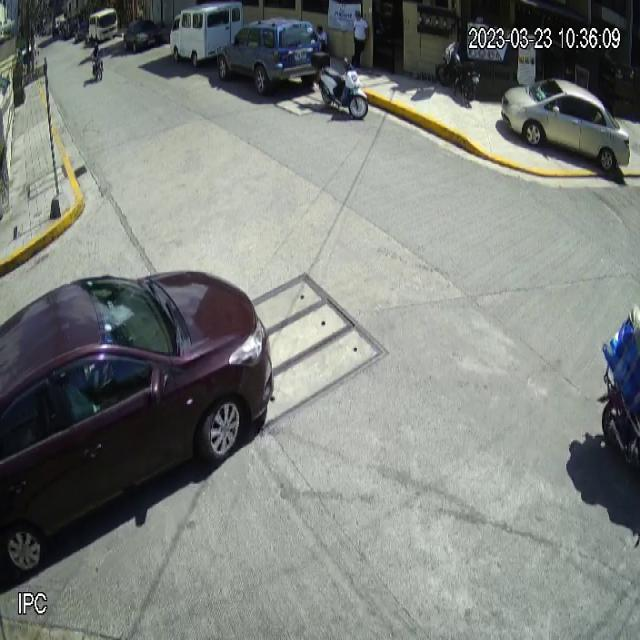Car: (0, 269, 275, 577), (500, 76, 631, 175), (216, 16, 321, 85)
Motorcycle: (310, 49, 370, 121)
Van: (169, 0, 244, 69)
